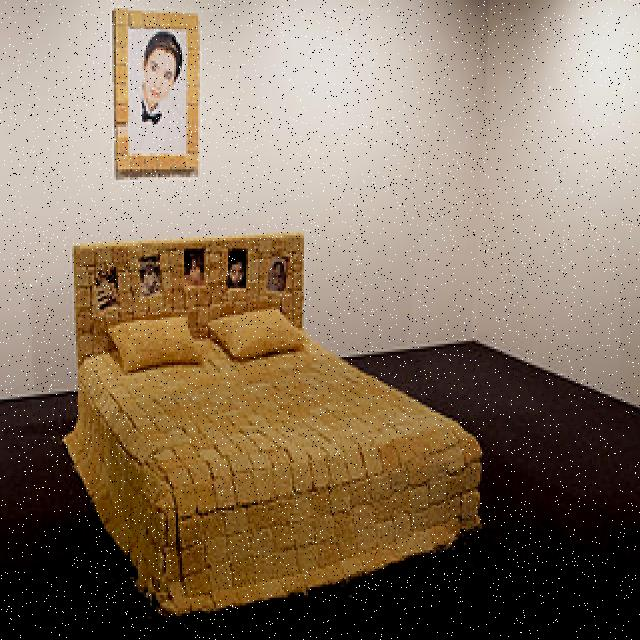bed: (72, 298, 485, 610)
